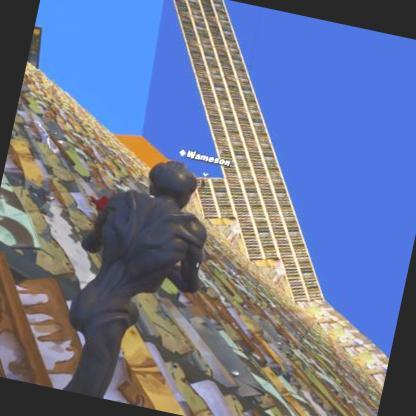person: (46, 141, 226, 413), (199, 174, 208, 190)
